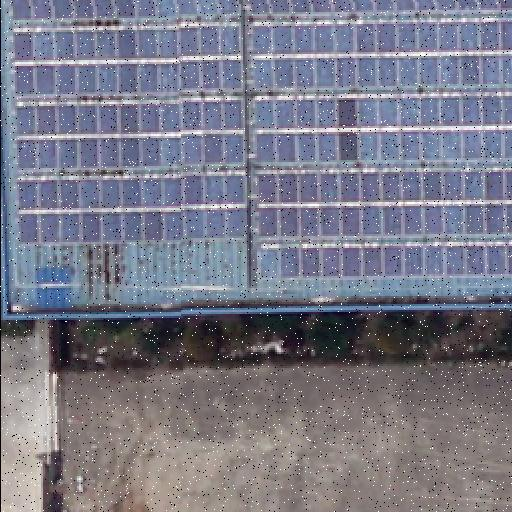solar-panel: (252, 19, 512, 93), (256, 169, 512, 239), (256, 93, 512, 163), (12, 23, 240, 97), (18, 172, 246, 244), (16, 101, 244, 171), (257, 241, 511, 279), (11, 1, 237, 23), (249, 0, 511, 16)
